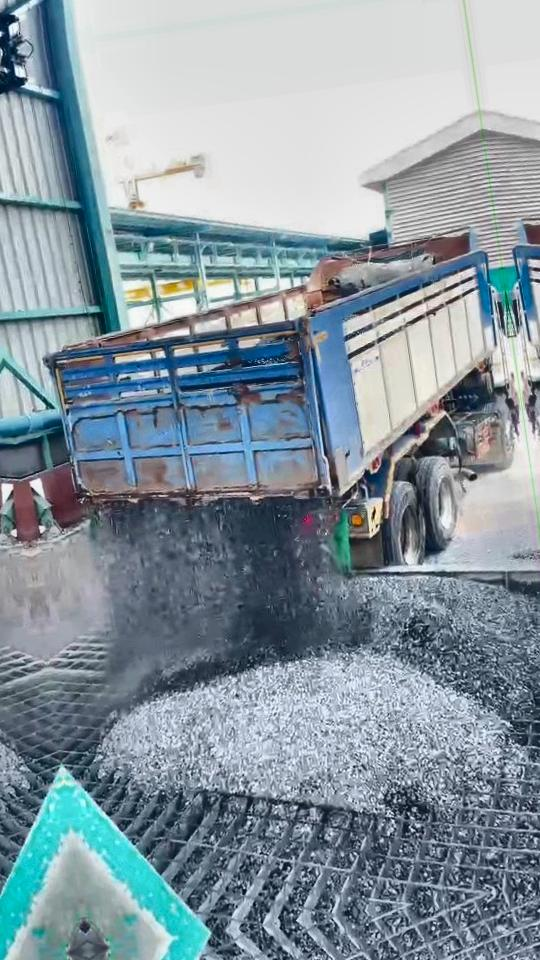gravel: (98, 502, 540, 810)
